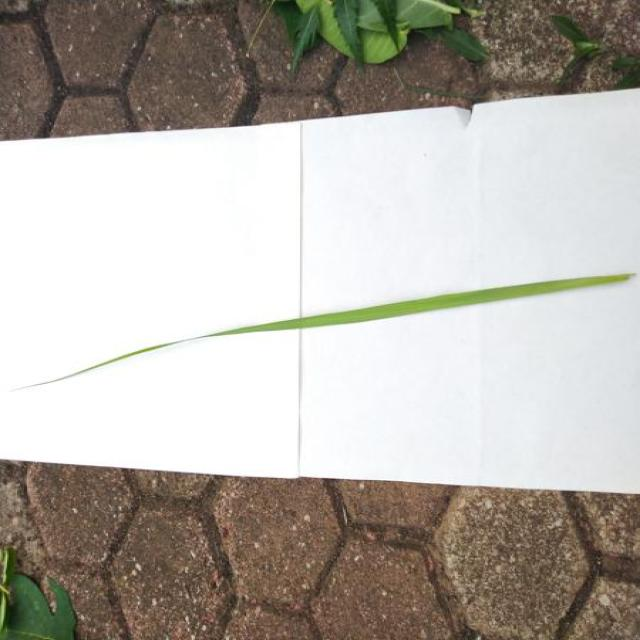lemongrass: (20, 274, 633, 388)
